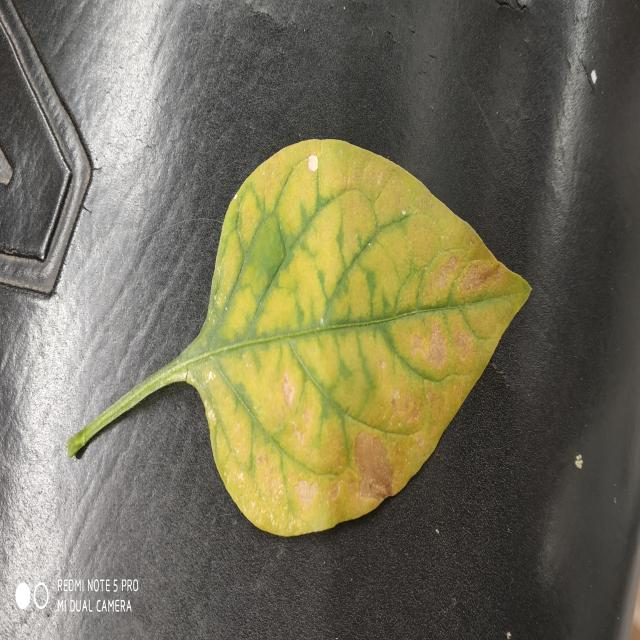ganike: (68, 140, 530, 536)
